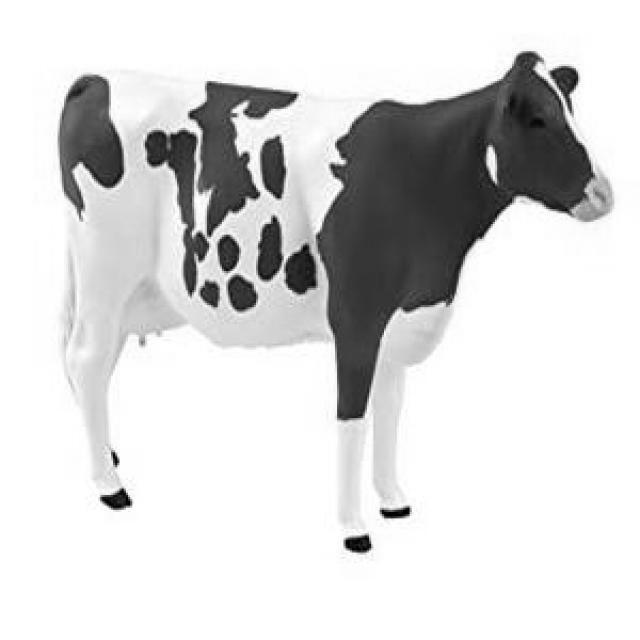cow: (59, 52, 612, 552)
